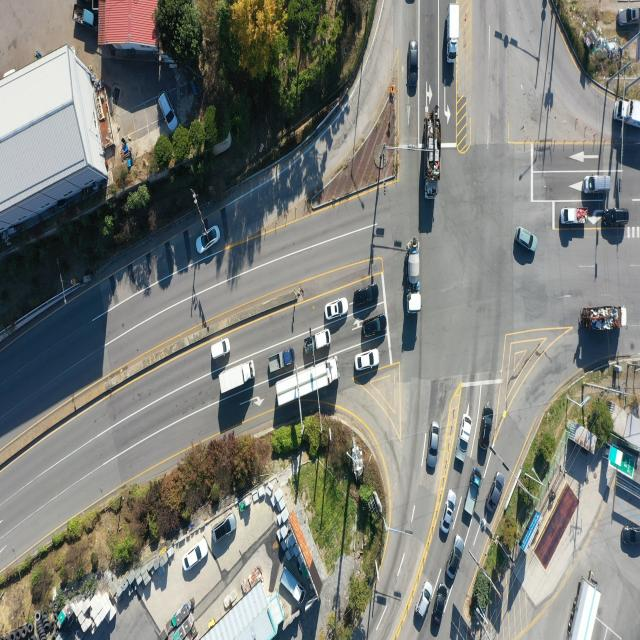car: (448, 534, 466, 579), (183, 540, 208, 572), (159, 91, 178, 132), (487, 474, 506, 514), (442, 490, 459, 534), (603, 206, 631, 232), (197, 225, 220, 255), (426, 422, 439, 475), (585, 174, 613, 198), (352, 283, 379, 307), (416, 581, 434, 617), (213, 518, 235, 546), (515, 225, 536, 253), (324, 299, 348, 322), (361, 318, 385, 341), (432, 583, 446, 622), (354, 350, 378, 372), (482, 409, 494, 453), (408, 42, 418, 84), (618, 7, 640, 26), (211, 339, 230, 361), (621, 527, 640, 548), (406, 0, 416, 6)
medium_truck: (274, 356, 338, 407), (566, 580, 600, 640), (425, 114, 441, 198), (220, 359, 256, 395), (578, 308, 626, 334), (408, 240, 422, 314), (615, 96, 640, 134), (446, 1, 458, 62)
small_truck: (280, 566, 305, 604), (268, 347, 296, 375), (464, 472, 481, 517), (303, 329, 331, 356), (456, 416, 471, 464), (72, 6, 96, 28), (560, 207, 586, 226)
